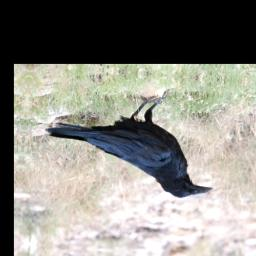Crow: (39, 83, 222, 201)
